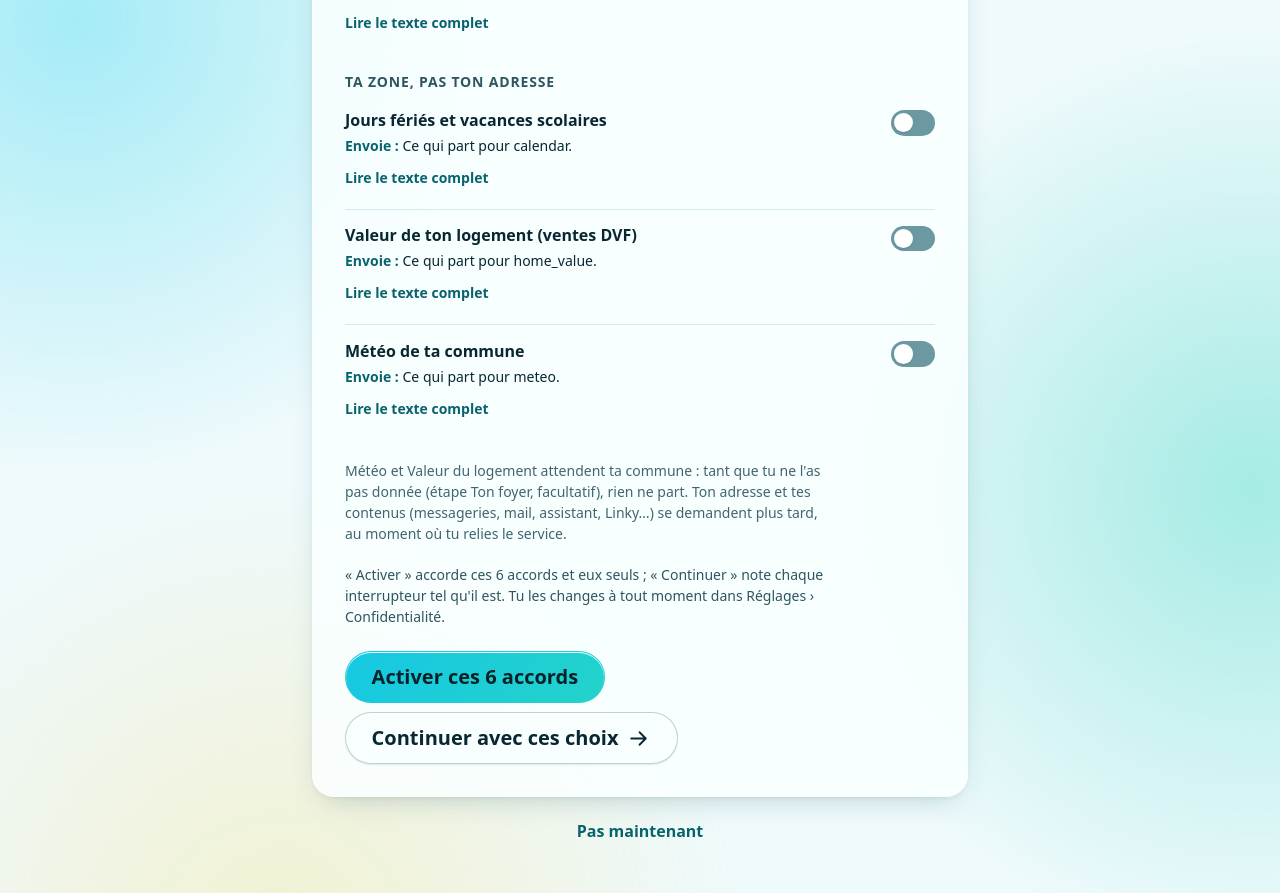
tes accords › « Continuer avec ces choix » records each undecided switch as shown, the default-on watch included
(page scrolled)
Click the button "Continuer avec ces choix" at (512, 738), box [345,712,678,764]
(page scrolled)
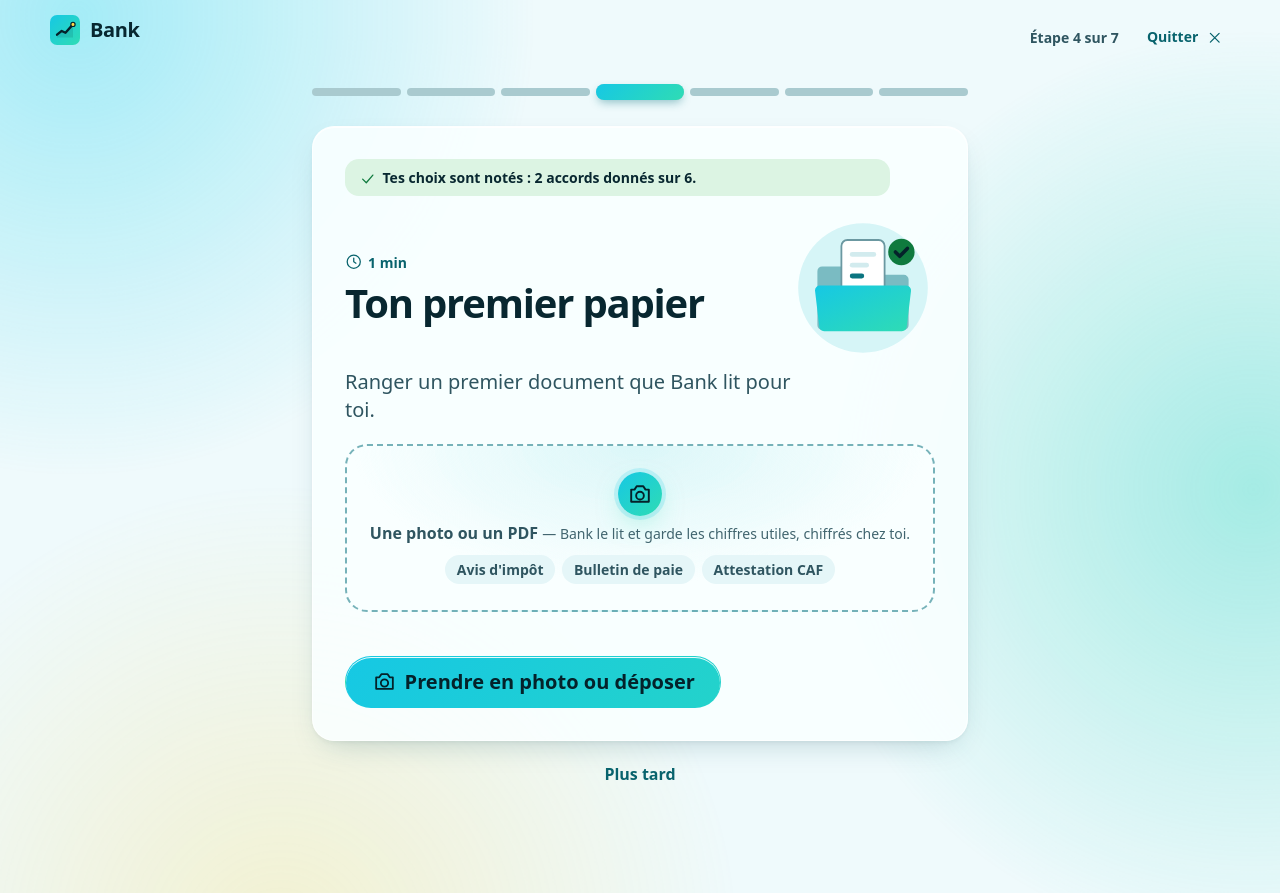
Result: the element with class "journey-flash" shows "2 accords donnés sur 6" at [382,168,696,187]
